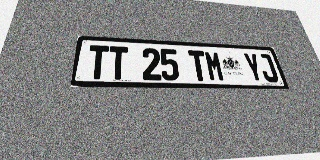2: (142, 48, 161, 80)
5: (160, 49, 180, 81)
J: (256, 54, 280, 82)
M: (204, 51, 226, 81)
T: (86, 45, 109, 79), (108, 46, 128, 80), (188, 50, 209, 81)
Y: (242, 53, 265, 82)
